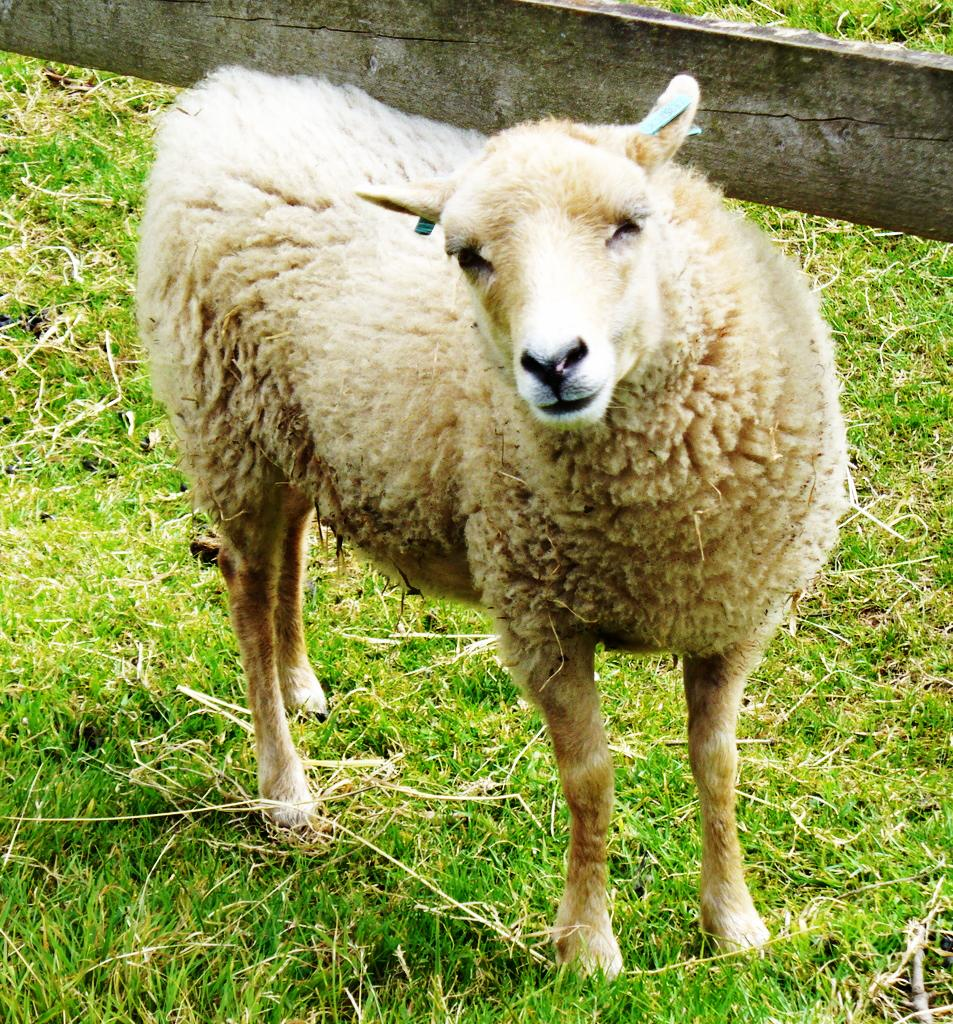Sheep: (125, 60, 894, 960)
